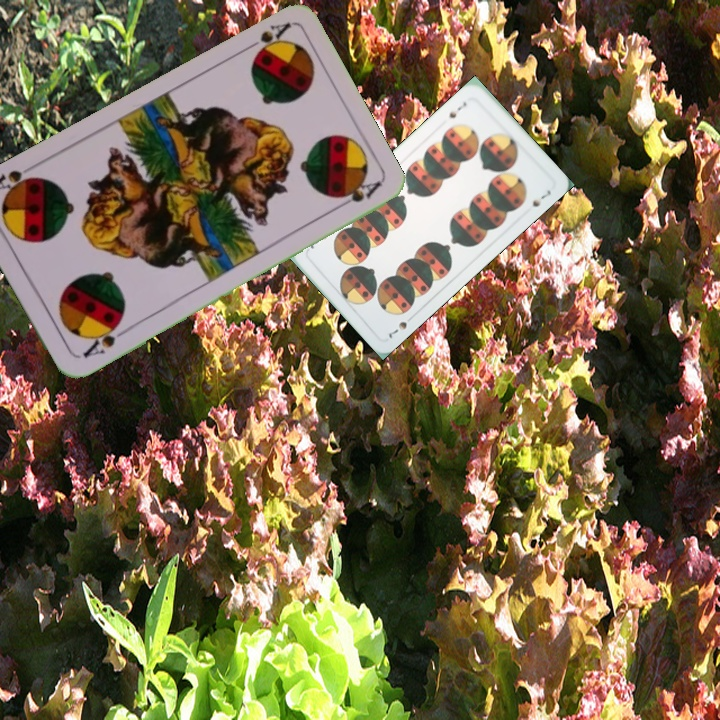S7: (384, 311, 417, 341), (445, 97, 469, 121)
SA: (239, 18, 294, 64), (79, 318, 130, 362)
